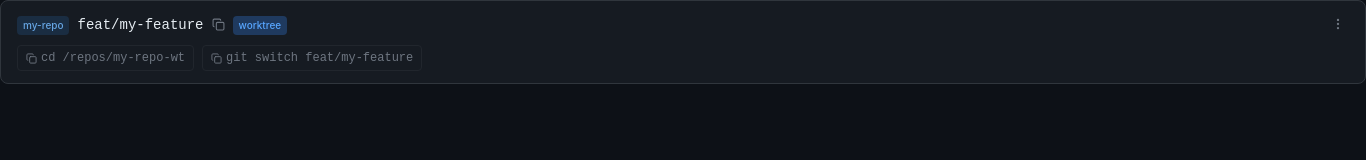
BranchCard — worktree branch › GIVEN remove fails with an unrelated error WHEN Remove worktree clicked THEN shows the error inline and does not retry
Step 1. Click the button titled "More actions" → (1338, 24), box [1327,13,1349,35]
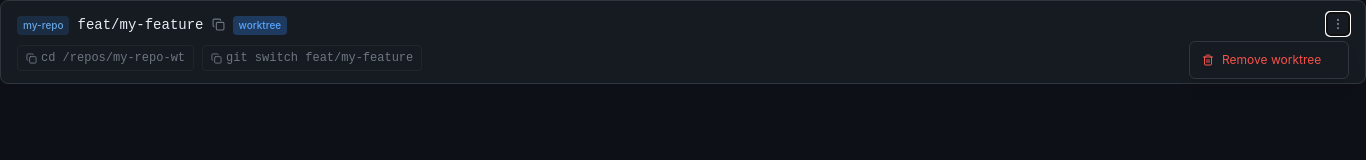
Step 2. Click the button "Remove worktree" → (1269, 60), box [1190,46,1348,74]
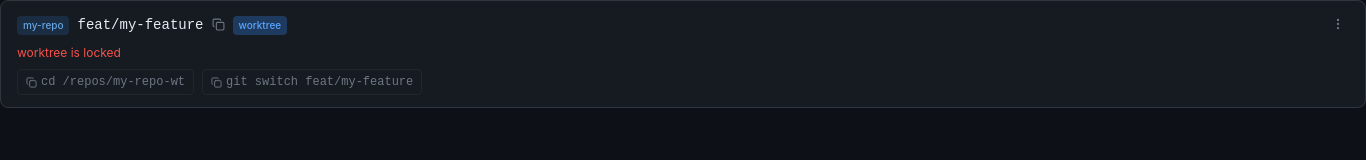
Expected: the text "worktree is locked" is shown, [17,45,121,60]
